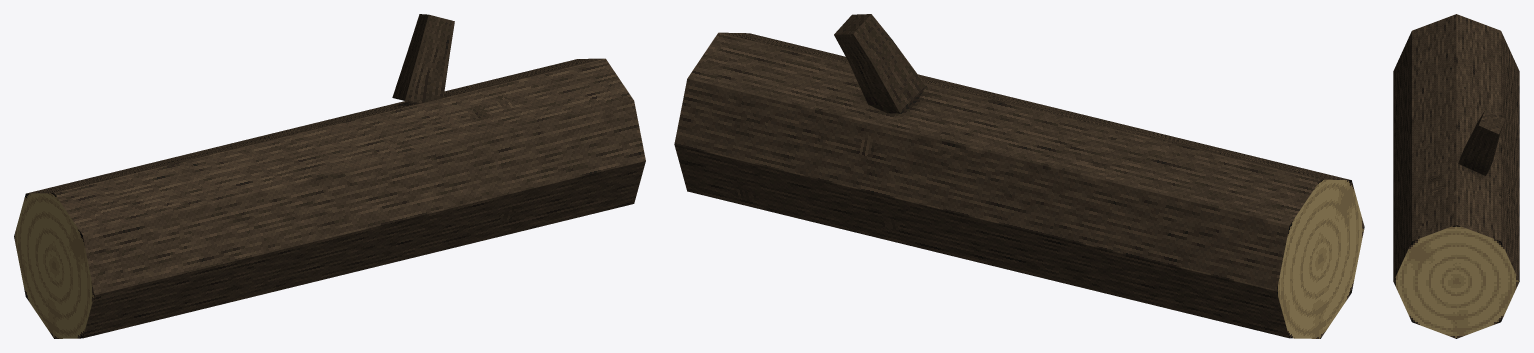
Rendered from Log_Seat_01.glb.
3 renders of one model, left to right at view 1: azimuth 30°, elevation 25°; view 2: azimuth 150°, elevation 25°; view 3: azimuth 270°, elevation 25°, orthographic. The views are drawn at different scales.
Visible parts, largest first — view 1: Log_Seat_01; view 2: Log_Seat_01; view 3: Log_Seat_01.
Part boxes in pixels (x1=…): Log_Seat_01: x1=14, y1=14, x2=645, y2=338; Log_Seat_01: x1=674, y1=14, x2=1364, y2=338; Log_Seat_01: x1=1393, y1=14, x2=1519, y2=338.
Bounding box in the file's own units: 1.4 × 0.5218 × 0.354.
1 material, 1 textured.
